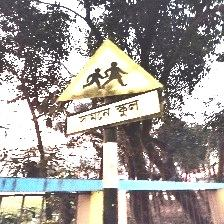School-in-front: (56, 39, 164, 136)
